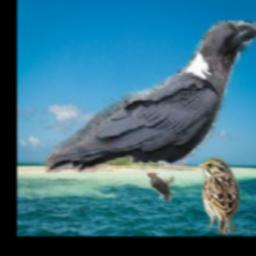Crow: (45, 21, 256, 174)
Sparrow: (196, 158, 241, 235)
Woodpecker: (146, 172, 173, 202)
